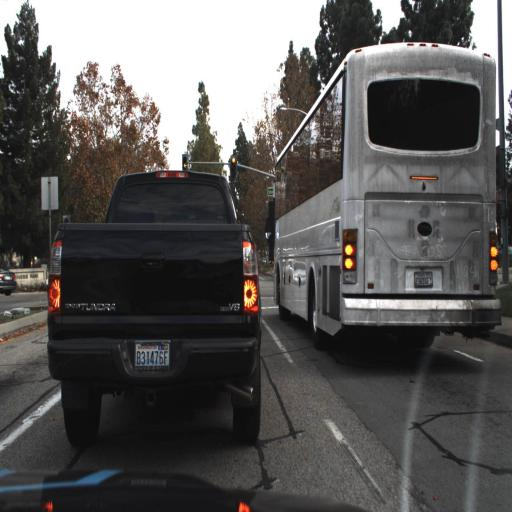car: (53, 171, 258, 435)
trafficLight: (181, 153, 187, 172), (61, 214, 71, 224)
trafficLight-Red: (228, 155, 237, 179)
truck: (271, 47, 497, 352)
